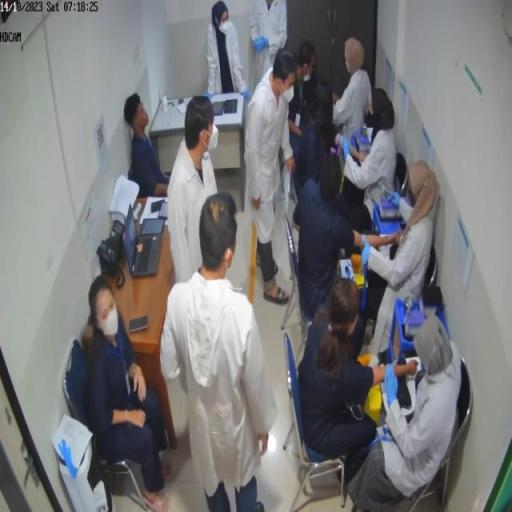person: (161, 192, 280, 511), (345, 313, 463, 507), (299, 279, 417, 464), (84, 275, 177, 506), (292, 153, 402, 327), (363, 162, 440, 356), (244, 48, 299, 307), (168, 97, 220, 286), (343, 87, 398, 222), (291, 42, 341, 158), (125, 94, 171, 199), (333, 38, 374, 151), (207, 2, 251, 99), (250, 2, 288, 97)
